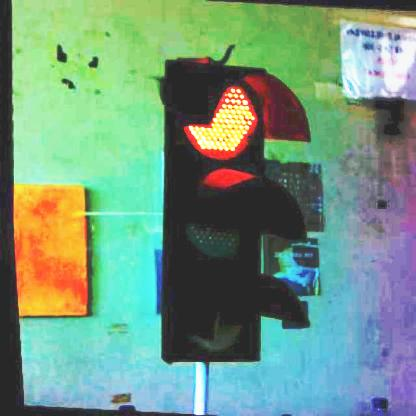Traffic Light -Red-: (141, 61, 323, 370)
